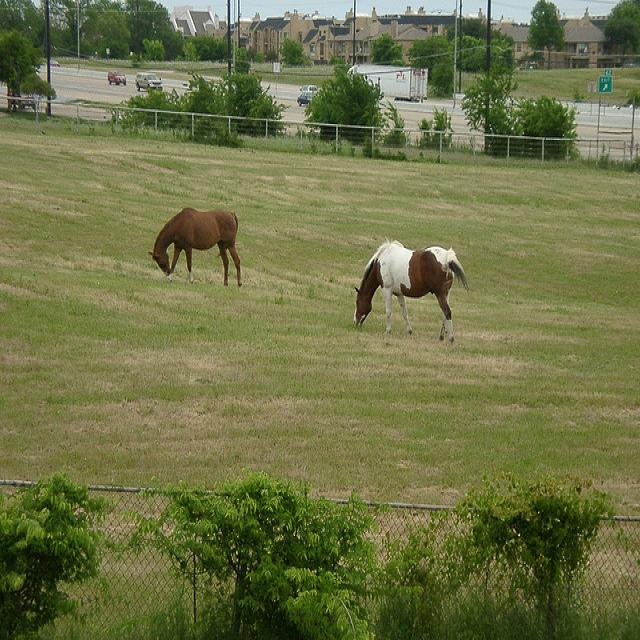Vehicle: (346, 62, 428, 100), (134, 73, 164, 91), (108, 70, 126, 86), (300, 83, 318, 98), (296, 92, 312, 106)
